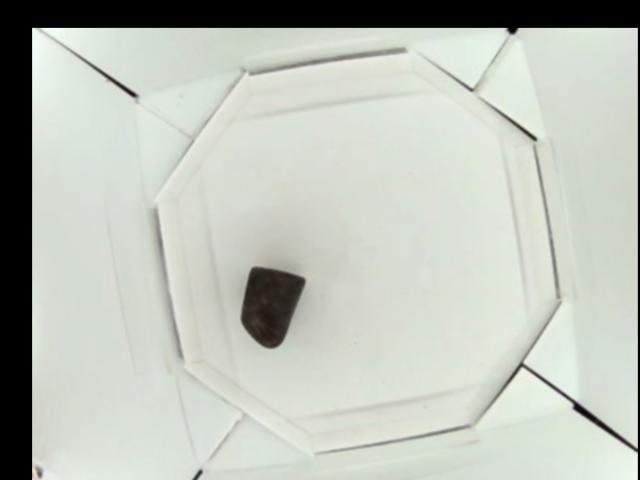Pebble: (241, 265, 302, 347)
